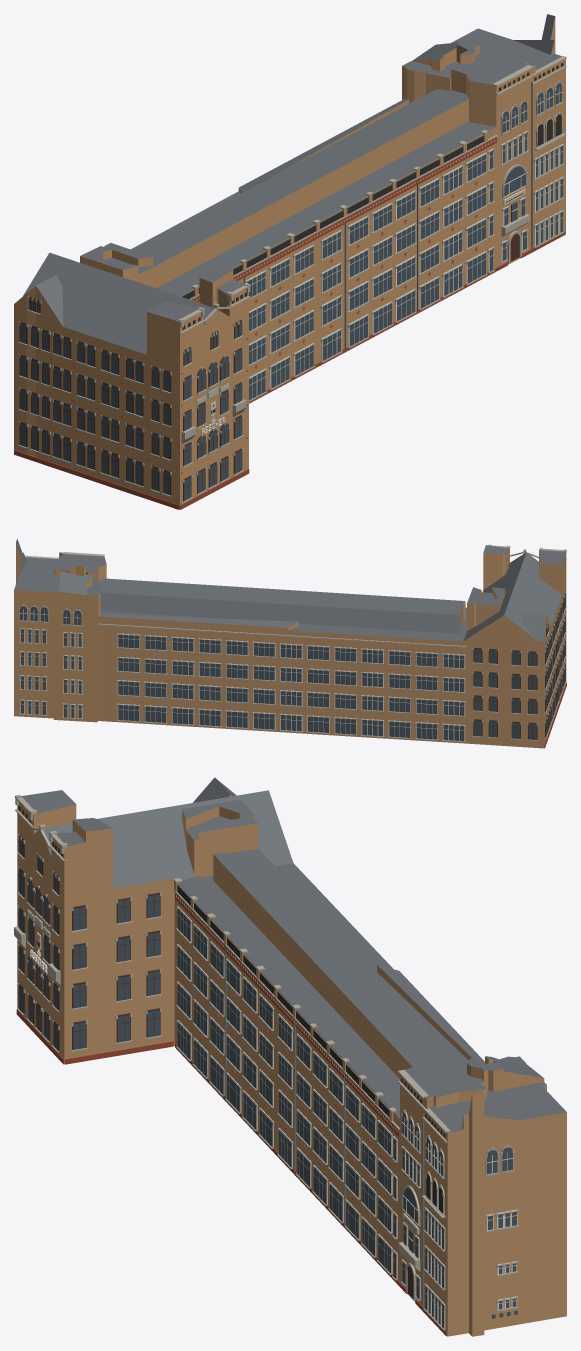
The model's file is asscher-diamantslijperij.glb.
3 renders of one model, top to bottom at view 1: azimuth 30°, elevation 25°; view 2: azimuth 150°, elevation 25°; view 3: azimuth 270°, elevation 25°, orthographic. The views are drawn at different scales.
Parts seen in each view (by area): view 1: asscher-diamantslijperij; view 2: asscher-diamantslijperij; view 3: asscher-diamantslijperij.
Part boxes in pixels (x1,y1,x2,y2): asscher-diamantslijperij: (14, 14, 566, 509); asscher-diamantslijperij: (14, 539, 566, 748); asscher-diamantslijperij: (14, 777, 566, 1336).
Bounding box in the file's own units: 85.77 × 26.89 × 55.49.
